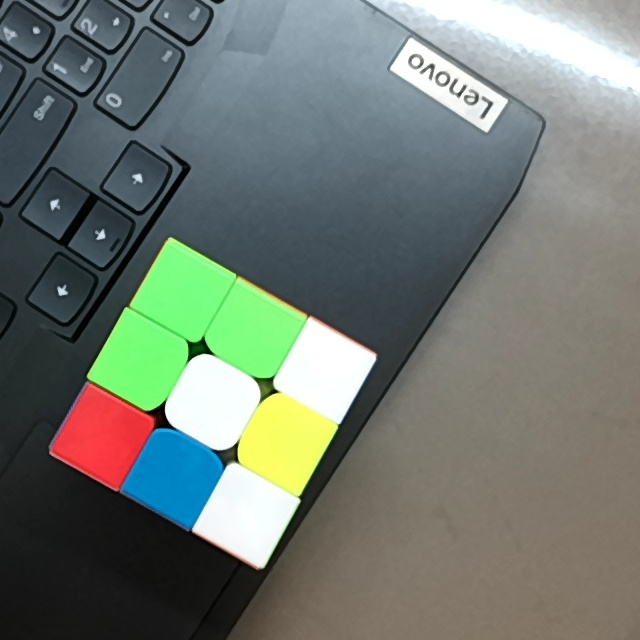tile: (225, 304, 281, 361), (257, 414, 312, 470), (145, 449, 202, 503), (115, 335, 169, 390), (156, 267, 210, 320), (187, 377, 239, 432), (76, 409, 129, 462), (298, 344, 350, 398), (220, 490, 273, 542)
